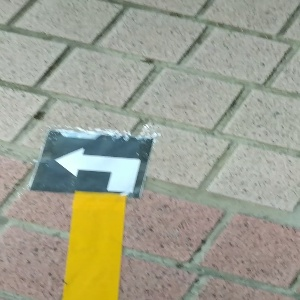left: (31, 129, 153, 193)
